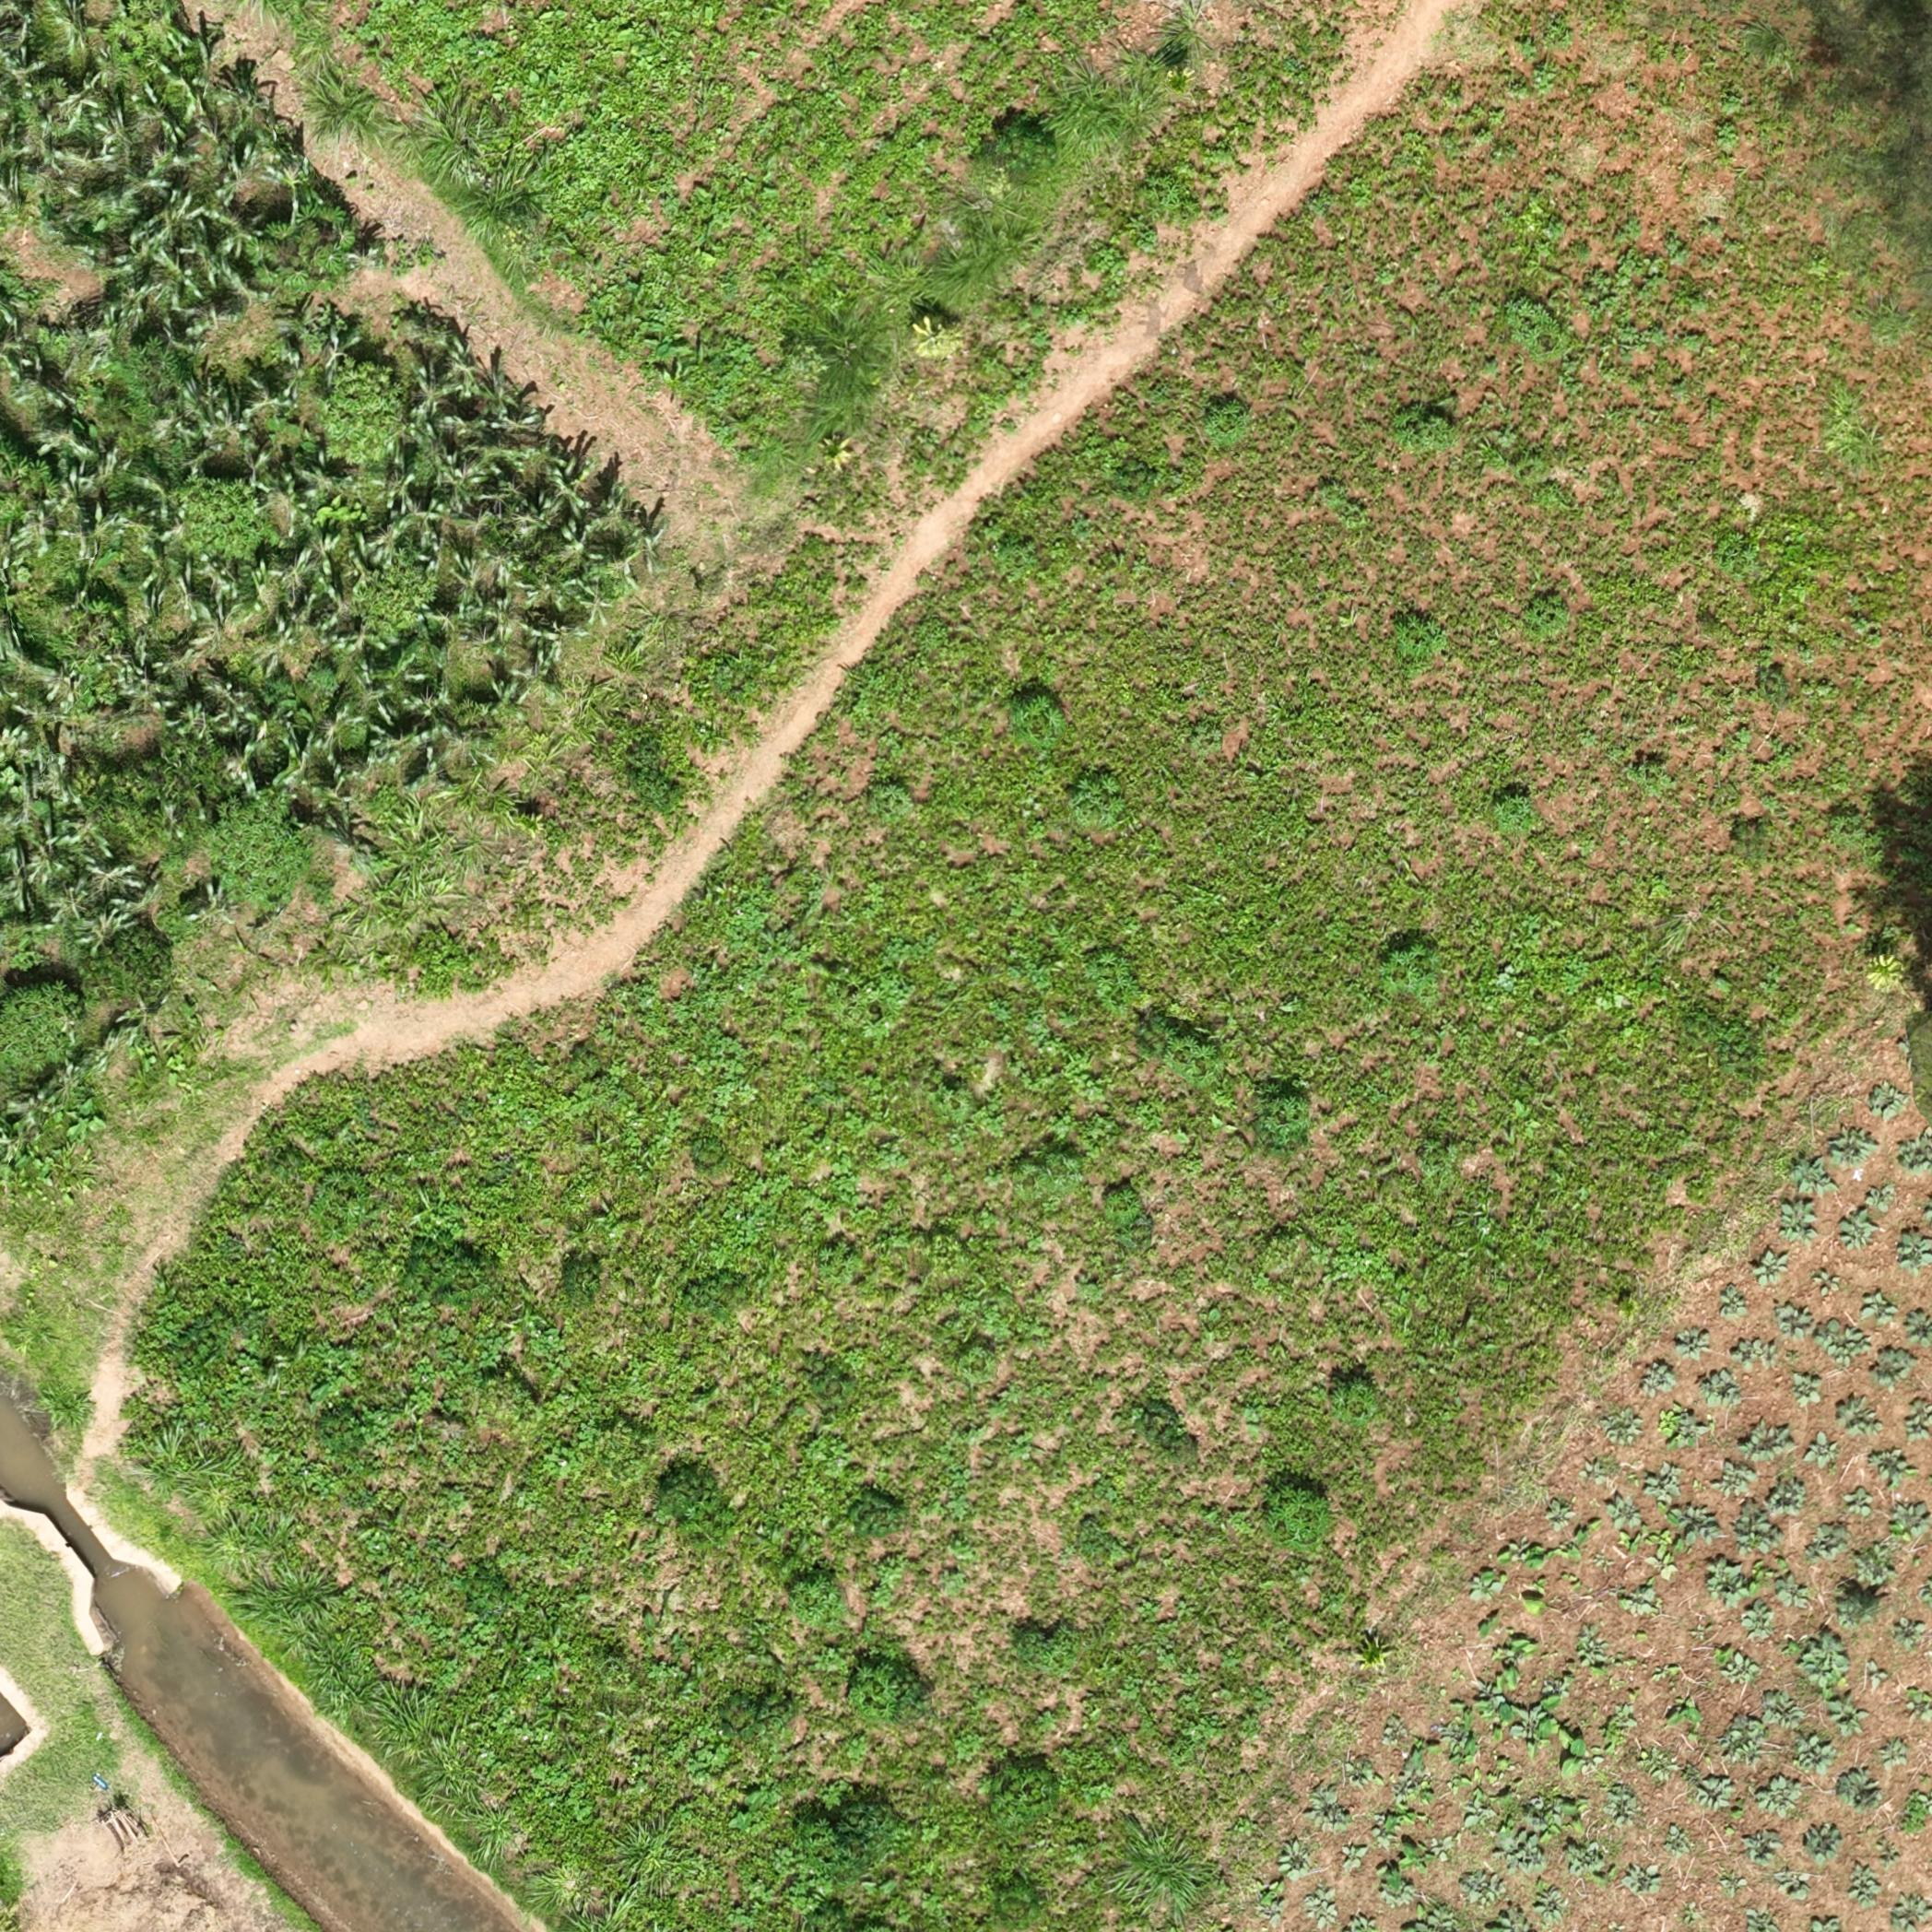Banana: (909, 315, 955, 361), (817, 433, 860, 474)
